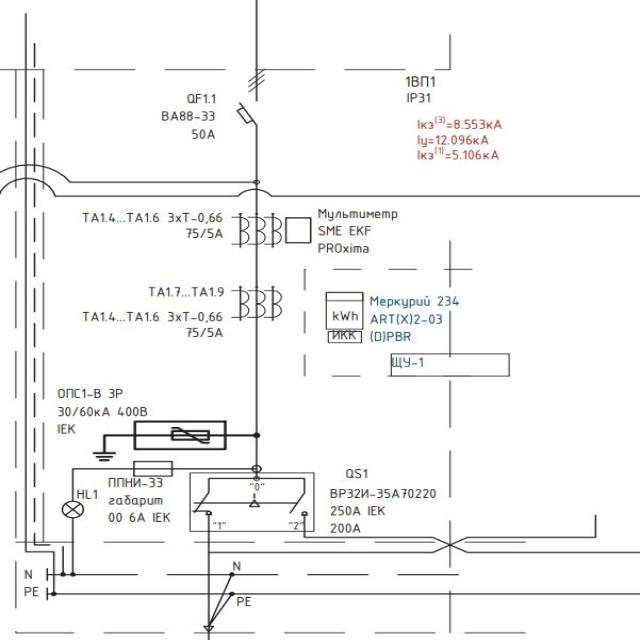-: (325, 482, 440, 536), (52, 384, 151, 436), (314, 207, 398, 257), (104, 475, 174, 525), (158, 108, 222, 142), (392, 70, 450, 106), (163, 307, 225, 340), (164, 210, 224, 240)
FU: (128, 459, 174, 477)
HL: (60, 500, 86, 520)
OPS: (131, 418, 228, 452)
PM: (284, 216, 312, 244)
QF: (236, 68, 264, 130)
TT: (228, 211, 284, 248), (230, 285, 286, 322)
switch: (190, 492, 312, 518)
